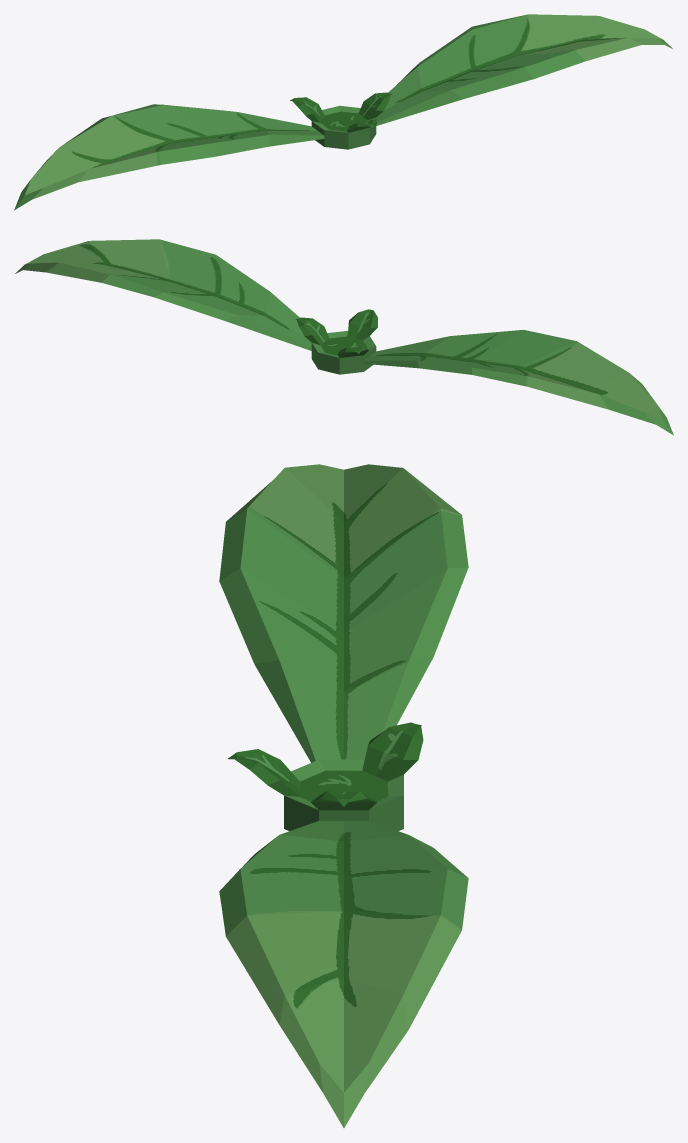
Rendered from Leaf.fbx.
The picture shows the model from 3 angles, top to bottom: view 1: azimuth 30°, elevation 25°; view 2: azimuth 150°, elevation 25°; view 3: azimuth 270°, elevation 25°; orthographic projection. The views are drawn at different scales.
Visible parts, largest first — view 1: Cylinder; view 2: Cylinder; view 3: Cylinder.
Boxes of the visible parts, x1,y1,x2,y2 form: Cylinder: (14,14,672,210); Cylinder: (15,239,673,435); Cylinder: (219,464,468,1127).
Bounding box in the file's own units: 945 × 72.73 × 155.
Materials: 1 (1 with a texture image).
